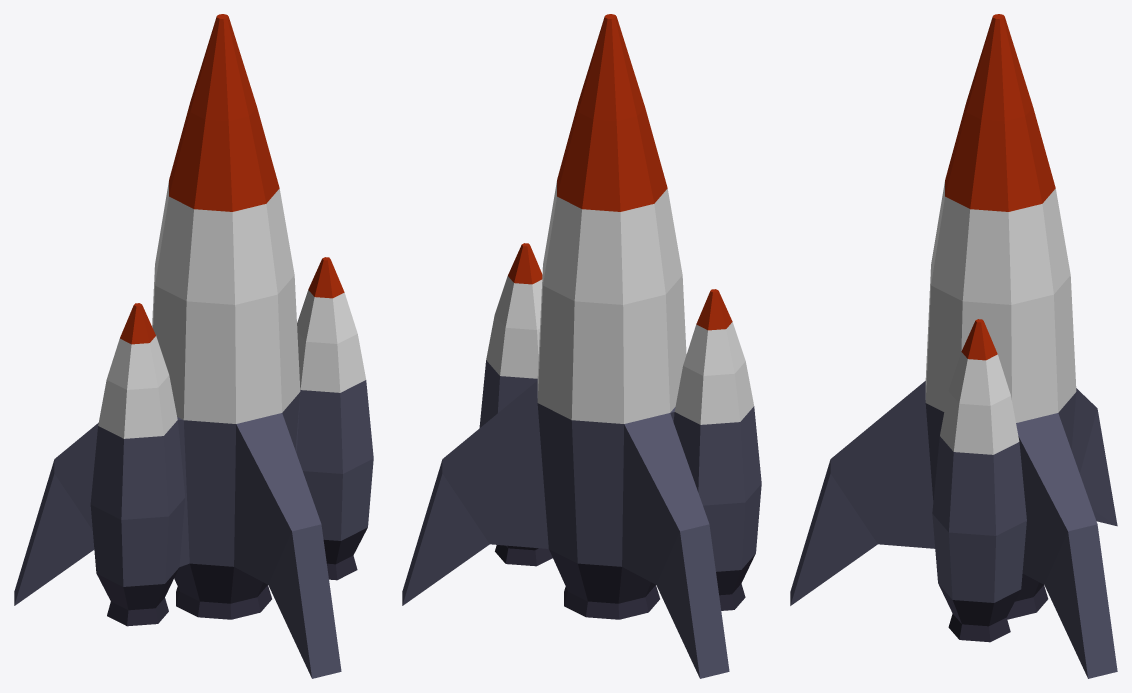
The model's file is Rocket.glb.
3 views of the same model, side by side, from view 1: azimuth 30°, elevation 25°; view 2: azimuth 150°, elevation 25°; view 3: azimuth 270°, elevation 25° (orthographic).
Parts seen in each view (by area): view 1: Rocket; view 2: Rocket; view 3: Rocket.
Part boxes in pixels (x1,y1,x2,y2): Rocket: (14,14,373,678); Rocket: (402,14,761,678); Rocket: (790,14,1117,678).
Bounding box in the file's own units: 1.72 × 2.93 × 1.49.
